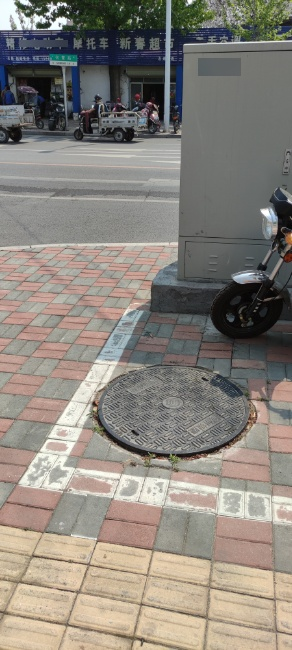good: (97, 363, 250, 454)
